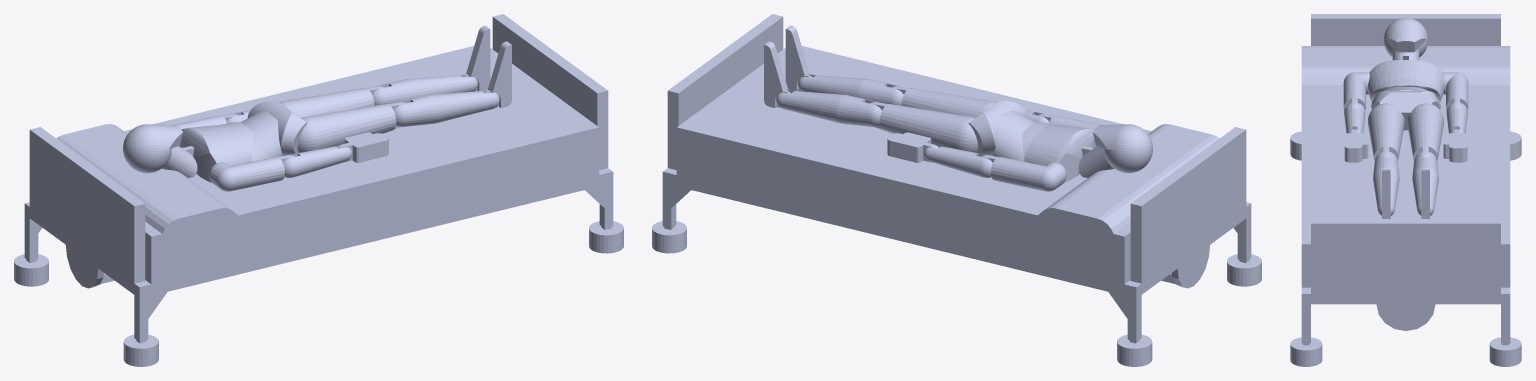
Rendered from bed_and_body_v3_nowall.dae.
3 renders of one model, left to right at view 1: azimuth 30°, elevation 25°; view 2: azimuth 150°, elevation 25°; view 3: azimuth 270°, elevation 25°, orthographic. The views are drawn at different scales.
Visible parts, largest first — view 1: bed_frame_link, leg_rest_lower_link, head_rest_link, leg_rest_upper_link, quad_right_link, base_link, upper_body_link, calf_right_link, head_link, calf_left_link, arm_right_link, quad_left_link (+7 smaller); view 2: bed_frame_link, leg_rest_lower_link, head_rest_link, leg_rest_upper_link, quad_left_link, base_link, upper_body_link, calf_left_link, head_link, calf_right_link, arm_left_link, quad_right_link (+7 smaller); view 3: bed_frame_link, head_rest_link, leg_rest_lower_link, leg_rest_upper_link, base_link, upper_body_link, quad_left_link, quad_right_link, head_link, lower_body_link, calf_left_link, calf_right_link (+10 smaller).
Part boxes in pixels (x1,y1,x2,y2): bed_frame_link: [24, 14, 613, 341]; leg_rest_lower_link: [335, 46, 599, 211]; head_rest_link: [56, 114, 307, 284]; leg_rest_upper_link: [254, 80, 449, 231]; quad_right_link: [297, 102, 406, 152]; base_link: [14, 221, 623, 366]; upper_body_link: [179, 122, 253, 182]; calf_right_link: [394, 90, 499, 126]; head_link: [123, 124, 182, 173]; calf_left_link: [372, 74, 477, 105]; arm_right_link: [209, 155, 294, 191]; quad_left_link: [279, 86, 384, 117]; bed_frame_link: [662, 14, 1251, 341]; leg_rest_lower_link: [676, 46, 940, 211]; head_rest_link: [968, 114, 1219, 284]; leg_rest_upper_link: [826, 80, 1021, 231]; quad_left_link: [870, 102, 978, 152]; base_link: [652, 221, 1261, 366]; upper_body_link: [1022, 122, 1096, 182]; calf_left_link: [776, 90, 881, 126]; head_link: [1093, 124, 1152, 173]; calf_right_link: [798, 74, 903, 105]; arm_left_link: [981, 155, 1066, 191]; quad_right_link: [891, 86, 996, 117]; bed_frame_link: [1301, 14, 1510, 343]; head_rest_link: [1301, 46, 1510, 115]; leg_rest_lower_link: [1301, 178, 1510, 287]; leg_rest_upper_link: [1301, 142, 1510, 177]; base_link: [1290, 131, 1521, 366]; upper_body_link: [1367, 60, 1444, 102]; quad_left_link: [1407, 103, 1443, 161]; quad_right_link: [1368, 103, 1404, 161]; head_link: [1383, 17, 1428, 57]; lower_body_link: [1373, 91, 1438, 130]; calf_left_link: [1412, 151, 1438, 215]; calf_right_link: [1373, 151, 1399, 215].
Bounding box in the file's own units: 2.28 × 1.01 × 0.8073.
